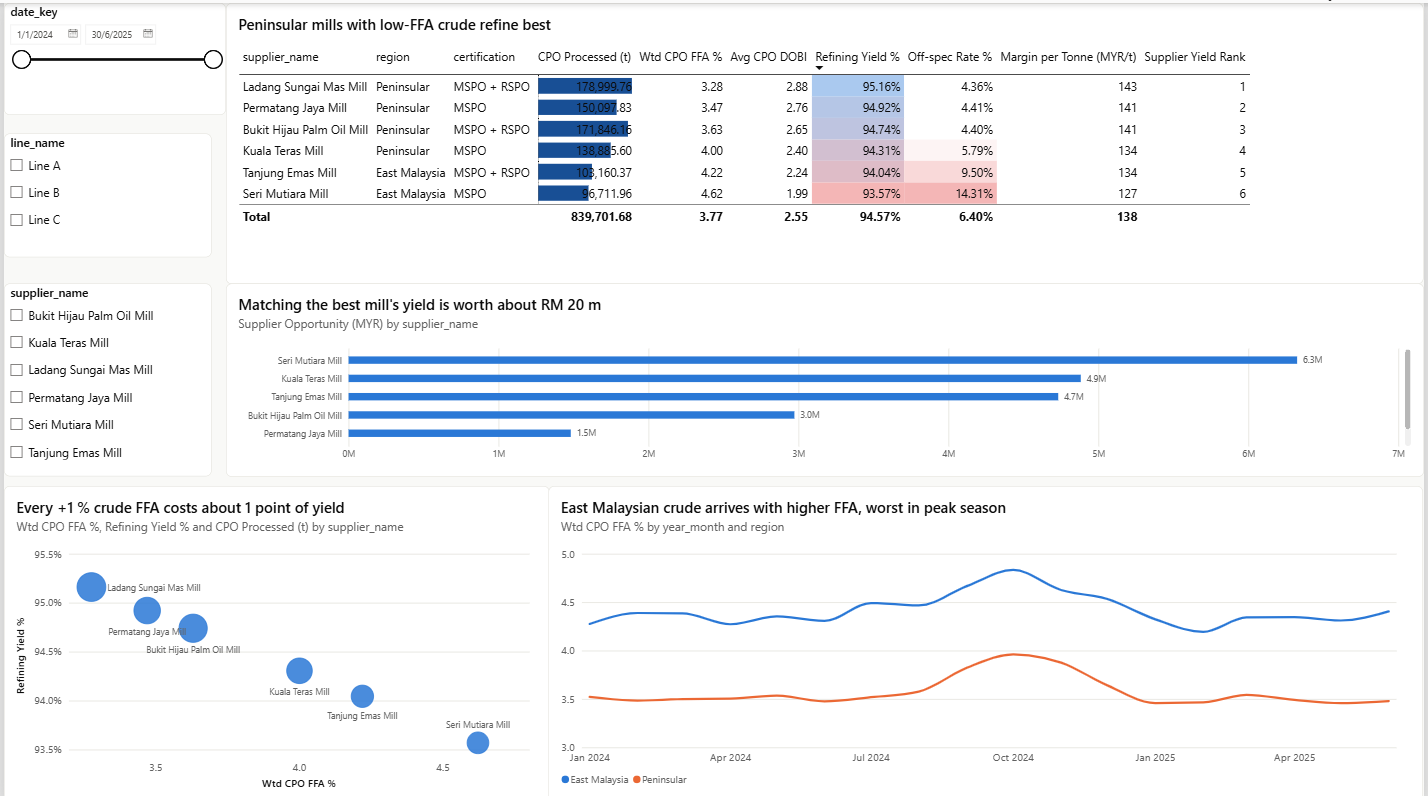

The dashboard page shown, as its layout file describes it:
{"tool":"powerbi","page":{"name":"Supplier Analysis","canvas":[1920,1080],"ordinal":2},"visuals":[{"type":"slicer","fields":{"Values":["dim_date.date_key"]},"box":[0,0,300,151.4],"z":0},{"type":"slicer","fields":{"Values":["dim_line.line_name"]},"box":[0,175.7,280.6,167.2],"z":1},{"type":"slicer","fields":{"Values":["dim_supplier.supplier_name"]},"box":[0,379.8,280.6,260.8],"z":2},{"type":"tableEx","title":"Peninsular mills with low-FFA crude refine best","fields":{"Values":["dim_supplier.supplier_name","dim_supplier.region","dim_supplier.certification","_Measures.CPO Processed (t)","_Measures.Wtd CPO FFA %","_Measures.Avg CPO DOBI","_Measures.Refining Yield %","_Measures.Off-spec Rate %","_Measures.Margin per Tonne (MYR/t)","_Measures.Supplier Yield Rank"]},"box":[300.5,0,1618.6,379.8],"z":3},{"type":"scatterChart","title":"Every +1 % crude FFA costs about 1 point of yield","fields":{"Category":["dim_supplier.supplier_name"],"Size":["_Measures.CPO Processed (t)"],"X":["_Measures.Wtd CPO FFA %"],"Y":["_Measures.Refining Yield %"]},"box":[0,652,737,428],"z":4},{"type":"clusteredBarChart","title":"Matching the best mill''s yield is worth about RM 20 m","fields":{"Category":["dim_supplier.supplier_name"],"Y":["_Measures.Supplier Opportunity (MYR)"]},"box":[300,380,1619,261],"z":5},{"type":"lineChart","title":"East Malaysian crude arrives with higher FFA, worst in peak season","fields":{"Category":["dim_date.year_month"],"Series":["dim_supplier.region"],"Y":["_Measures.Wtd CPO FFA %"]},"box":[737,652,1182,428],"z":6}]}

Visuals, with their boxes on the page's 1920x1080 design canvas (x1, y1, x2, y2). These are canvas units, not pixel positions in the 1428x796 screenshot, which may show the page scaled, cropped or inside an application window:
slicer - dim_date.date_key: x1=0 y1=0 x2=300 y2=151
slicer - dim_line.line_name: x1=0 y1=176 x2=281 y2=343
slicer - dim_supplier.supplier_name: x1=0 y1=380 x2=281 y2=641
"Peninsular mills with low-FFA crude refine best" tableEx: x1=300 y1=0 x2=1919 y2=380
"Every +1 % crude FFA costs about 1 point of yield" scatterChart: x1=0 y1=652 x2=737 y2=1080
"Matching the best mill''s yield is worth about RM 20 m" clusteredBarChart: x1=300 y1=380 x2=1919 y2=641
"East Malaysian crude arrives with higher FFA, worst in peak season" lineChart: x1=737 y1=652 x2=1919 y2=1080
